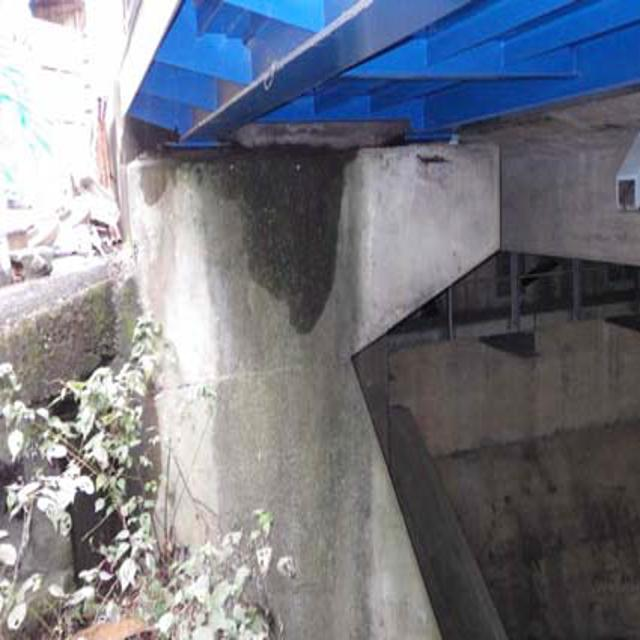leakage: (243, 138, 357, 342), (113, 140, 230, 209)
